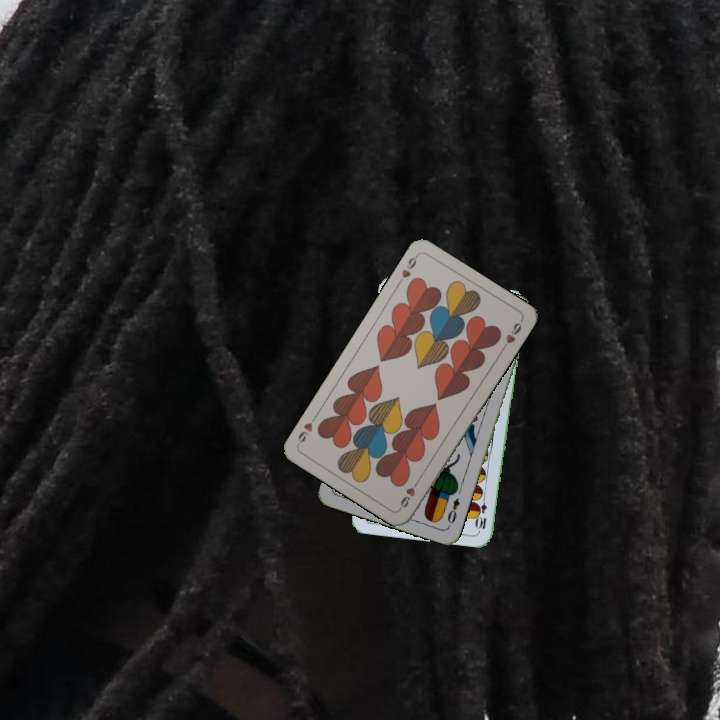E10: (474, 491, 490, 531)
EO: (443, 494, 462, 529)
H9: (395, 475, 422, 512), (397, 251, 420, 281)
